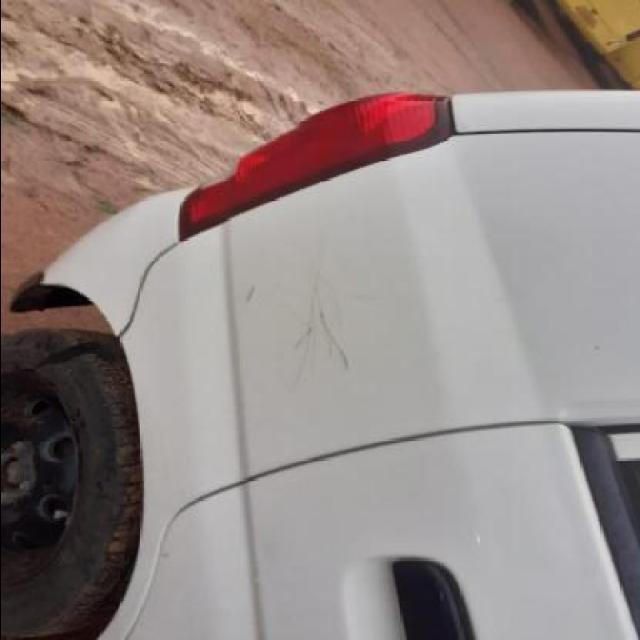quaterpanel-dent: (40, 216, 512, 433)
